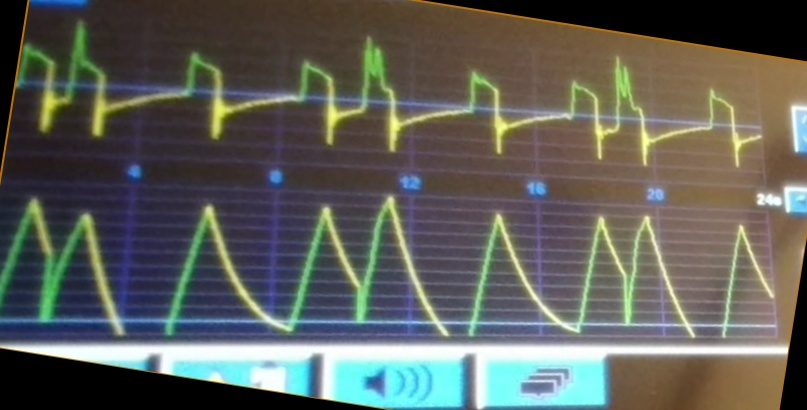Double_Triggering Flow: (25, 19, 654, 164)
Double_Triggering Volume: (4, 195, 693, 340)
